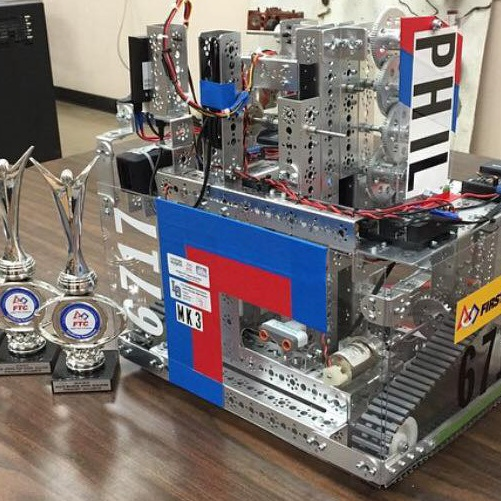robot: (83, 1, 499, 494)
